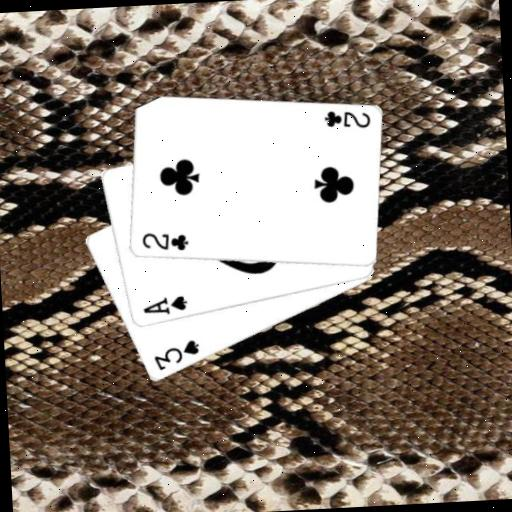2C: (138, 229, 190, 256), (320, 106, 372, 132)
3S: (150, 337, 202, 374)
AS: (139, 292, 189, 318)
